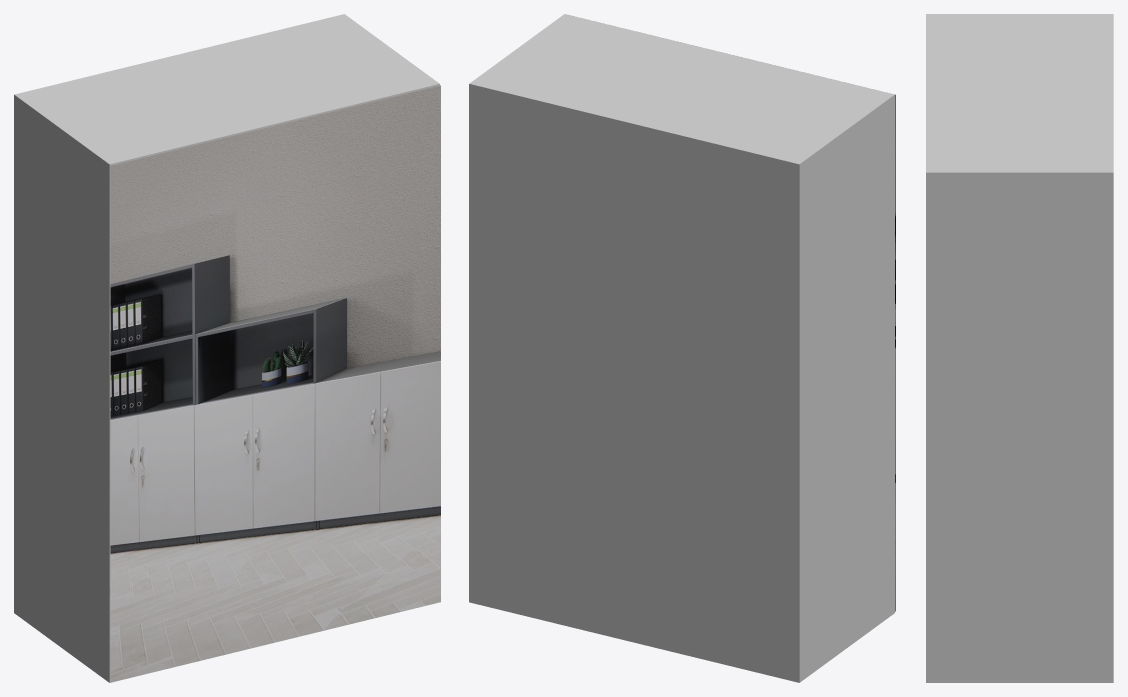
Rendered from mocan-71.glb.
The picture shows the model from 3 angles, left to right: view 1: azimuth 30°, elevation 25°; view 2: azimuth 150°, elevation 25°; view 3: azimuth 270°, elevation 25°; orthographic projection.
Visible parts, largest first — view 1: furniture; view 2: furniture; view 3: furniture.
Part boxes in pixels (x1,y1,x2,y2): furniture: (14, 14, 440, 682); furniture: (469, 14, 895, 682); furniture: (926, 14, 1113, 682).
Size of the model in its own units: 0.8 by 1.2 by 0.404.
2 materials, 1 textured.
